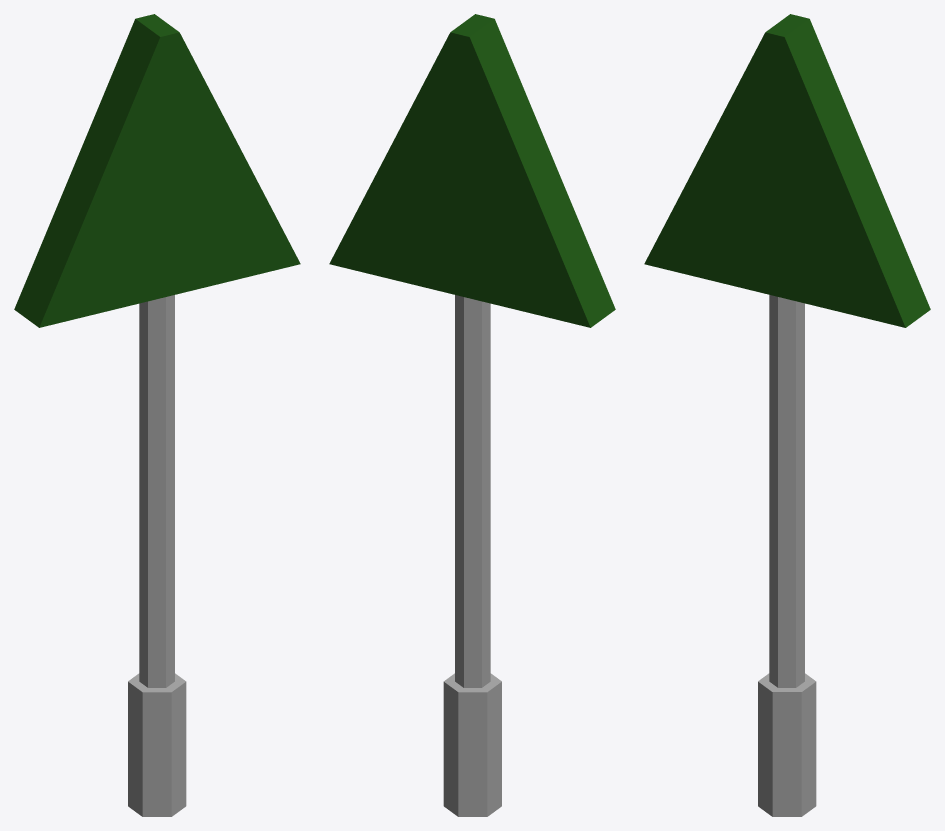
File: sign-board.glb
3 views of the same model, side by side, from view 1: azimuth 30°, elevation 25°; view 2: azimuth 150°, elevation 25°; view 3: azimuth 330°, elevation 25° (orthographic).
Visible parts, largest first — view 1: SignBoard_04_Cylinder.022; view 2: SignBoard_04_Cylinder.022; view 3: SignBoard_04_Cylinder.022.
Part boxes in pixels (x1,y1,x2,y2): SignBoard_04_Cylinder.022: (14,14,300,816); SignBoard_04_Cylinder.022: (329,14,615,816); SignBoard_04_Cylinder.022: (644,14,930,816).
Bounding box in the file's own units: 5.7 × 16.26 × 1.1.
